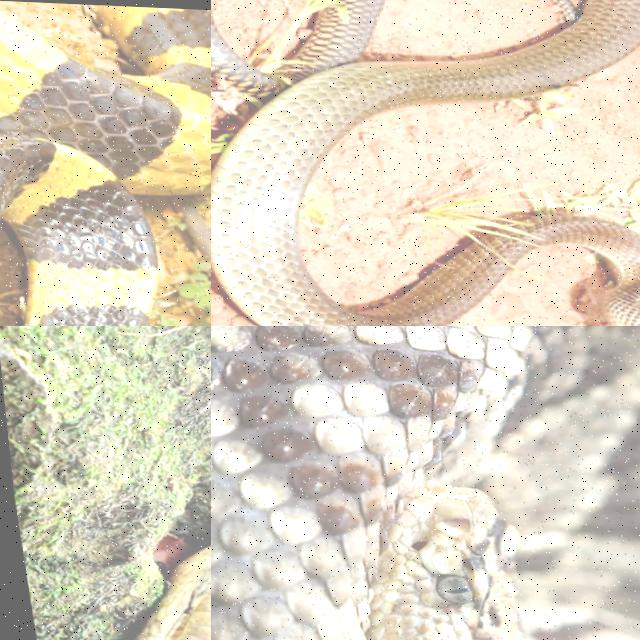Bungarus fasciatus: (0, 5, 210, 325)
Calloselasma rhodostoma: (211, 326, 639, 639)
Malayopython reticulatus: (137, 547, 210, 639)
Naja kaouthia: (211, 0, 639, 325)
